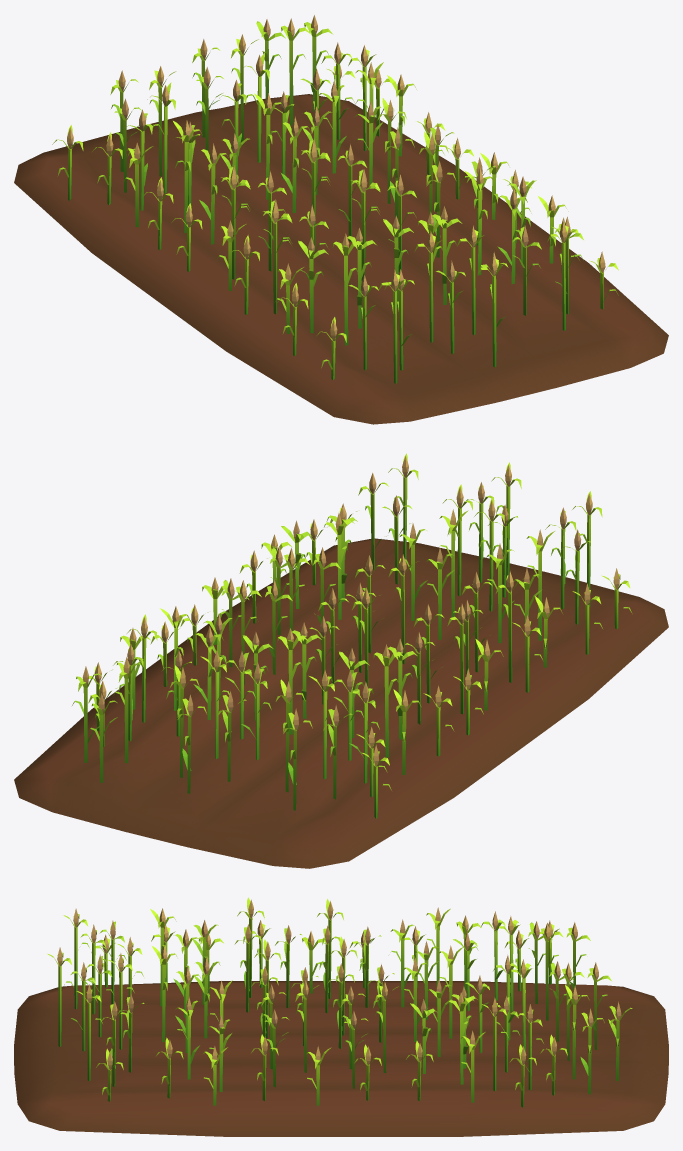
Rendered from Field.fbx.
3 views of the same model, one above another, from view 1: azimuth 30°, elevation 25°; view 2: azimuth 150°, elevation 25°; view 3: azimuth 270°, elevation 25° (orthographic). The views are drawn at different scales.
Visible parts, largest first — view 1: Field; view 2: Field; view 3: Field.
Part boxes in pixels (x1,y1,x2,y2): Field: (14, 15, 668, 424); Field: (14, 453, 668, 868); Field: (14, 897, 668, 1136).
Size of the model in its own units: 7.15 by 2.34 by 12.7.
